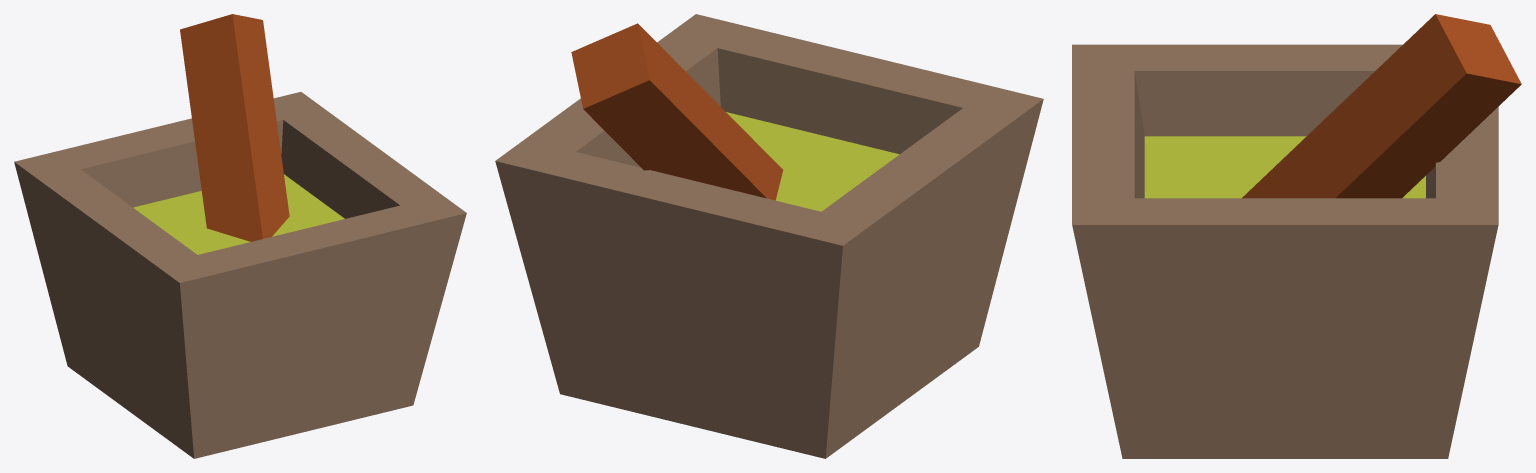
Rendered from Alchemist Tool 02.FBX.
3 views of the same model, side by side, from view 1: azimuth 30°, elevation 25°; view 2: azimuth 150°, elevation 25°; view 3: azimuth 270°, elevation 25° (orthographic). The views are drawn at different scales.
Visible parts, largest first — view 1: Alchemist Tool 02; view 2: Alchemist Tool 02; view 3: Alchemist Tool 02.
Part boxes in pixels (bbox=[...]): Alchemist Tool 02: bbox=[14, 14, 466, 458]; Alchemist Tool 02: bbox=[495, 14, 1043, 458]; Alchemist Tool 02: bbox=[1072, 14, 1521, 458].
Bounding box in the file's own units: 62.99 × 66.46 × 66.44.
